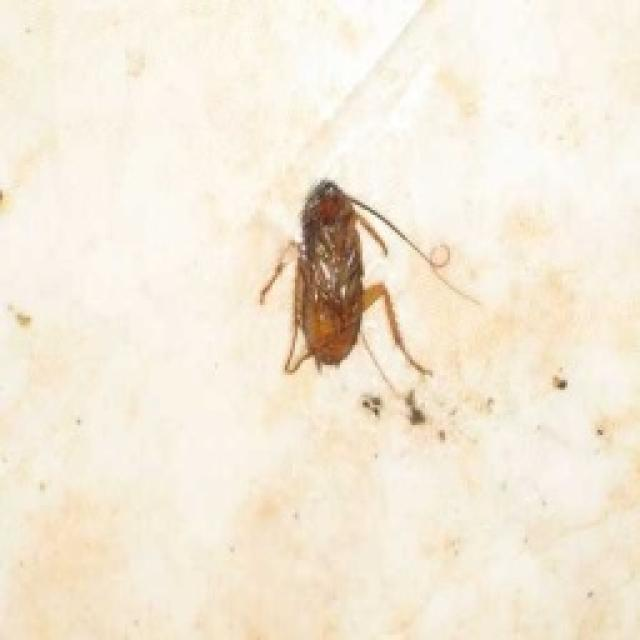cockroach: (254, 173, 484, 427)
